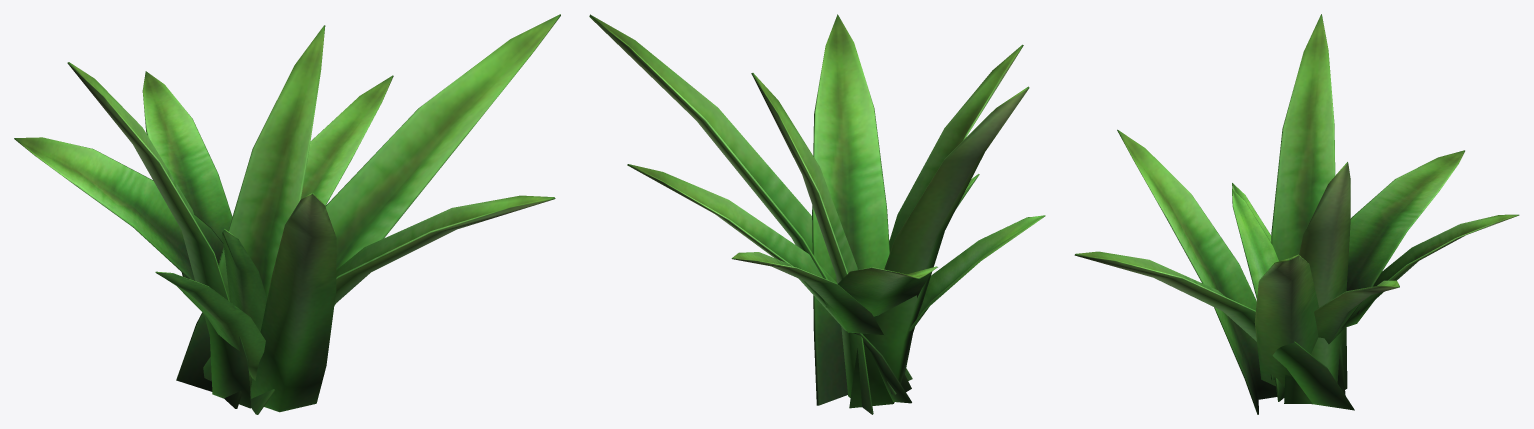
The model's file is plant.glb.
The picture shows the model from 3 angles, left to right: view 1: azimuth 30°, elevation 25°; view 2: azimuth 150°, elevation 25°; view 3: azimuth 270°, elevation 25°; orthographic projection. The views are drawn at different scales.
Parts seen in each view (by area): view 1: node_id86; view 2: node_id86; view 3: node_id86.
Boxes of the visible parts, left/top/right/bottom form: node_id86: left=14, top=14, right=560, bottom=414; node_id86: left=589, top=14, right=1045, bottom=414; node_id86: left=1074, top=14, right=1519, bottom=414.
Bounding box in the file's own units: 0.1962 × 0.1443 × 0.1859.
1 material, 1 textured.
